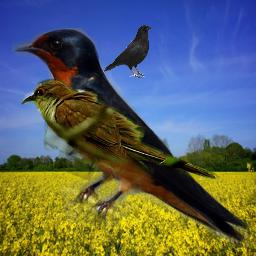Crow: (103, 24, 153, 78)
Cuckoo: (21, 78, 220, 181)
Swallow: (12, 28, 249, 247)
